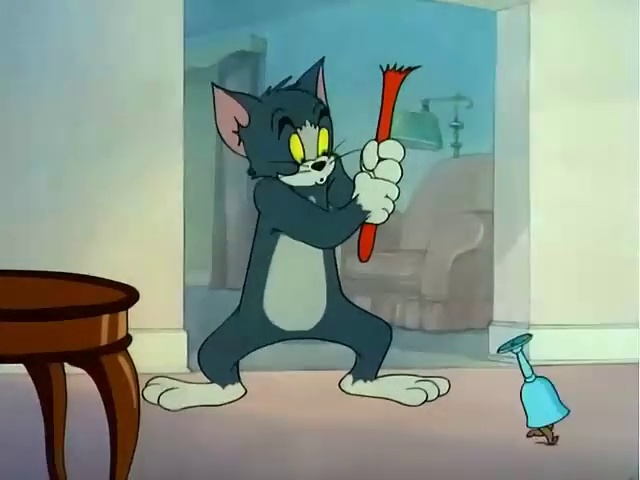tom: (126, 26, 467, 428)
